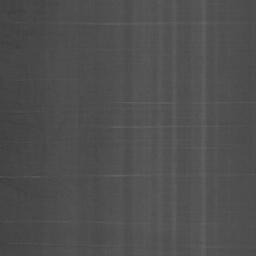Waist folding: (62, 20, 219, 27), (110, 124, 210, 130), (0, 219, 103, 224), (189, 243, 256, 249), (89, 173, 159, 178), (0, 174, 43, 180), (123, 100, 173, 105), (206, 100, 256, 105)
